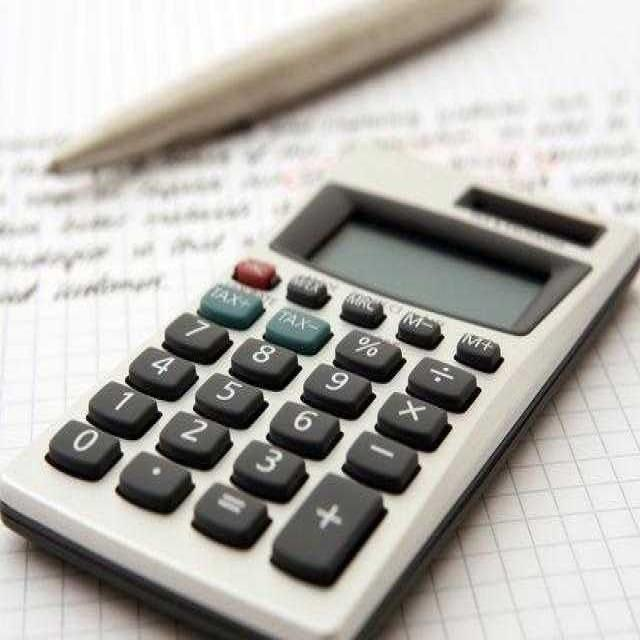Calculator: (0, 154, 639, 638)
